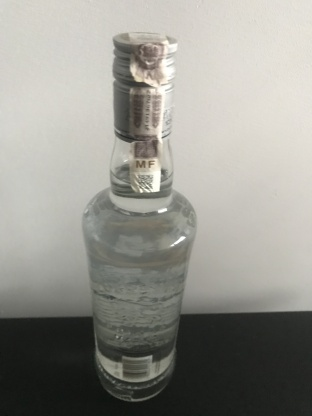nakretka: (110, 29, 179, 143)
